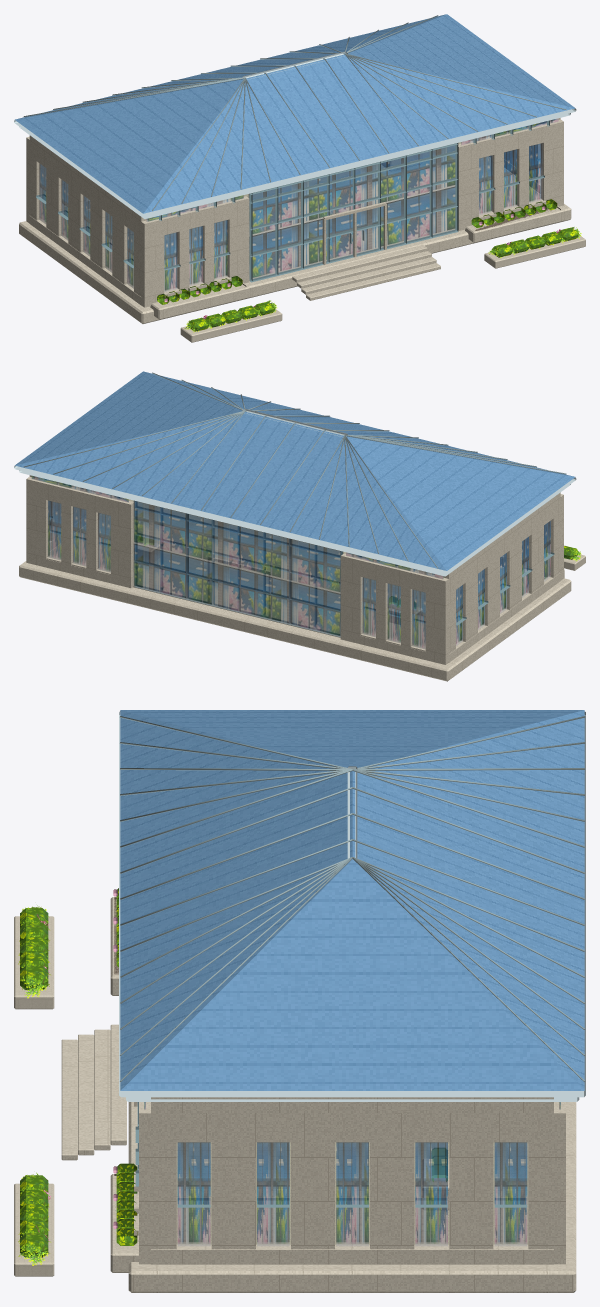
The model's file is B07_garden_pavilion_v2.glb.
The picture shows the model from 3 angles, top to bottom: view 1: azimuth 30°, elevation 25°; view 2: azimuth 150°, elevation 25°; view 3: azimuth 270°, elevation 25°; orthographic projection. The views are drawn at different scales.
Parts seen in each view (by area): view 1: GAME_roof, GAME_V2_Pixel_limestone, GAME_V2_Glass_reflection, GAME_V2_Pixel_paving, GAME_蓝灰窗框, GAME_V2_Tower_frame, GAME_屋檐浅蓝金属, GAME_V2_Dense_hedge, GAME_V2_Planter_stone; view 2: GAME_roof, GAME_V2_Pixel_limestone, GAME_V2_Glass_reflection, GAME_V2_Pixel_paving, GAME_V2_Tower_frame, GAME_蓝灰窗框, GAME_屋檐浅蓝金属; view 3: GAME_roof, GAME_V2_Pixel_limestone, GAME_V2_Tower_frame, GAME_V2_Glass_reflection, GAME_V2_Pixel_paving, GAME_屋檐浅蓝金属, GAME_V2_Dense_hedge, GAME_V2_Planter_stone, GAME_蓝灰窗框, GAME_V2_Leaf_cutout.
Part boxes in pixels (x1,y1,x2,y2): GAME_roof: (15, 14, 575, 213); GAME_V2_Pixel_limestone: (19, 118, 571, 323); GAME_V2_Glass_reflection: (39, 118, 558, 291); GAME_V2_Pixel_paving: (45, 141, 540, 289); GAME_蓝灰窗框: (36, 120, 549, 282); GAME_V2_Tower_frame: (23, 15, 566, 243); GAME_屋檐浅蓝金属: (14, 51, 576, 219); GAME_V2_Dense_hedge: (157, 199, 578, 331); GAME_V2_Planter_stone: (180, 236, 585, 342); GAME_roof: (15, 371, 574, 570); GAME_V2_Pixel_limestone: (19, 475, 571, 681); GAME_V2_Glass_reflection: (31, 476, 550, 648); GAME_V2_Pixel_paving: (49, 498, 544, 645); GAME_V2_Tower_frame: (23, 372, 566, 568); GAME_蓝灰窗框: (44, 479, 554, 636); GAME_屋檐浅蓝金属: (14, 408, 576, 576); GAME_roof: (120, 710, 584, 1090); GAME_V2_Pixel_limestone: (61, 897, 576, 1292); GAME_V2_Tower_frame: (120, 716, 585, 1081); GAME_V2_Glass_reflection: (144, 1102, 560, 1246); GAME_V2_Pixel_paving: (176, 1142, 528, 1244); GAME_屋檐浅蓝金属: (119, 711, 585, 1101); GAME_V2_Dense_hedge: (20, 888, 137, 1257); GAME_V2_Planter_stone: (14, 916, 54, 1276); GAME_蓝灰窗框: (135, 1102, 527, 1207); GAME_V2_Leaf_cutout: (18, 905, 50, 1265).
Bounding box in the file's own units: 16.55 × 5.93 × 10.47.
14 materials, 8 textured.
